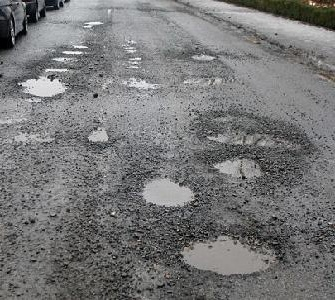pothole: (175, 226, 284, 275), (196, 112, 308, 150), (139, 170, 201, 209), (209, 149, 275, 180), (15, 72, 69, 97), (85, 126, 112, 144), (189, 52, 218, 62), (81, 17, 104, 28), (59, 47, 84, 55), (51, 55, 76, 61)
